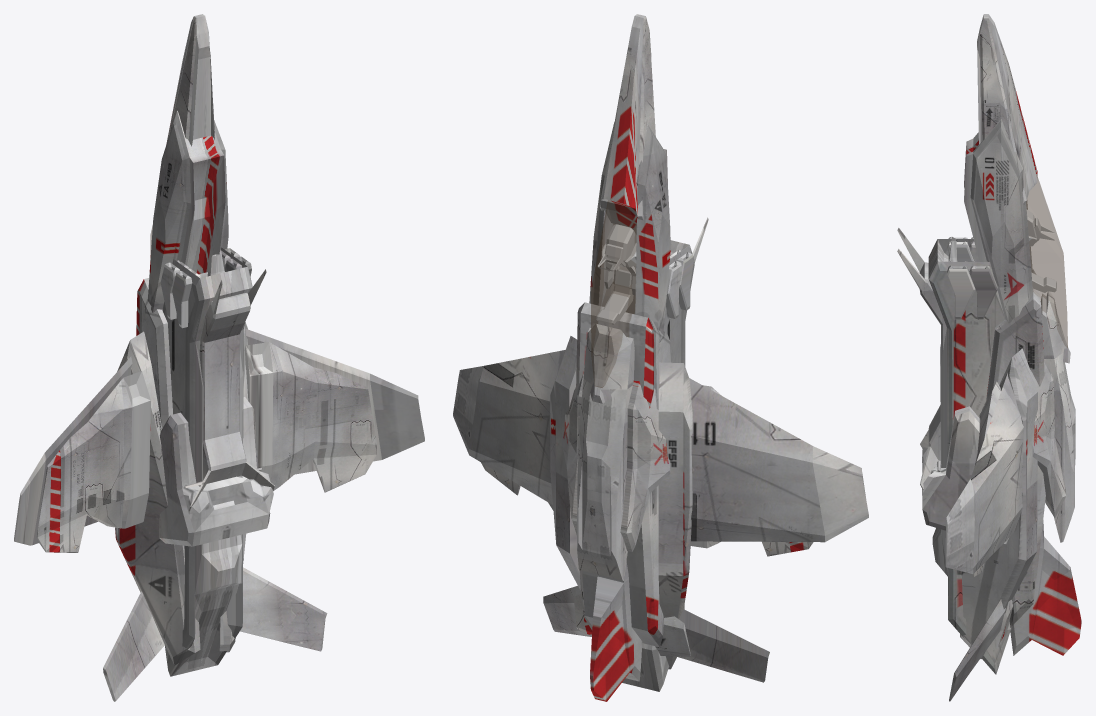
Rendered from fixcockpit.fbx.
The picture shows the model from 3 angles, left to right: view 1: azimuth 30°, elevation 25°; view 2: azimuth 150°, elevation 25°; view 3: azimuth 270°, elevation 25°; orthographic projection. The views are drawn at different scales.
Visible parts, largest first — view 1: body; view 2: body, cockpit_glass, cockpit; view 3: body, cockpit_glass, cockpit.
Part boxes in pixels (<box>): body: <box>14,14,424,701</box>; body: <box>453,14,868,701</box>; cockpit_glass: <box>591,200,636,387</box>; cockpit: <box>596,224,636,324</box>; body: <box>897,14,1081,701</box>; cockpit_glass: <box>1026,179,1067,347</box>; cockpit: <box>1026,209,1056,292</box>.
Bounding box in the file's own units: 301 × 460 × 119.
